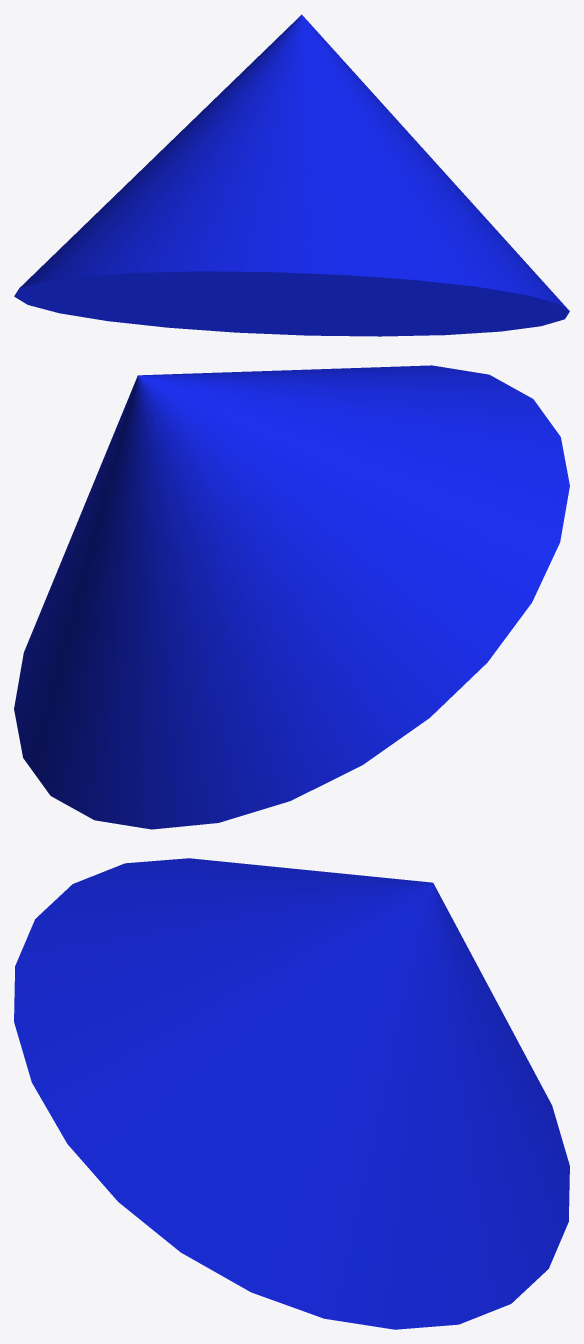
The model's file is kegel.dae.
3 views of the same model, one above another, from view 1: azimuth 30°, elevation 25°; view 2: azimuth 150°, elevation 25°; view 3: azimuth 270°, elevation 25° (orthographic). The views are drawn at different scales.
Parts seen in each view (by area): view 1: Kegel001; view 2: Kegel001; view 3: Kegel001.
Part boxes in pixels (box(x1,y1,x2,y2)): Kegel001: box(14, 14, 569, 336); Kegel001: box(14, 365, 569, 829); Kegel001: box(14, 858, 569, 1329).
Size of what is drawn, in the model's own units: 2.11 by 1.56 by 1.97.
